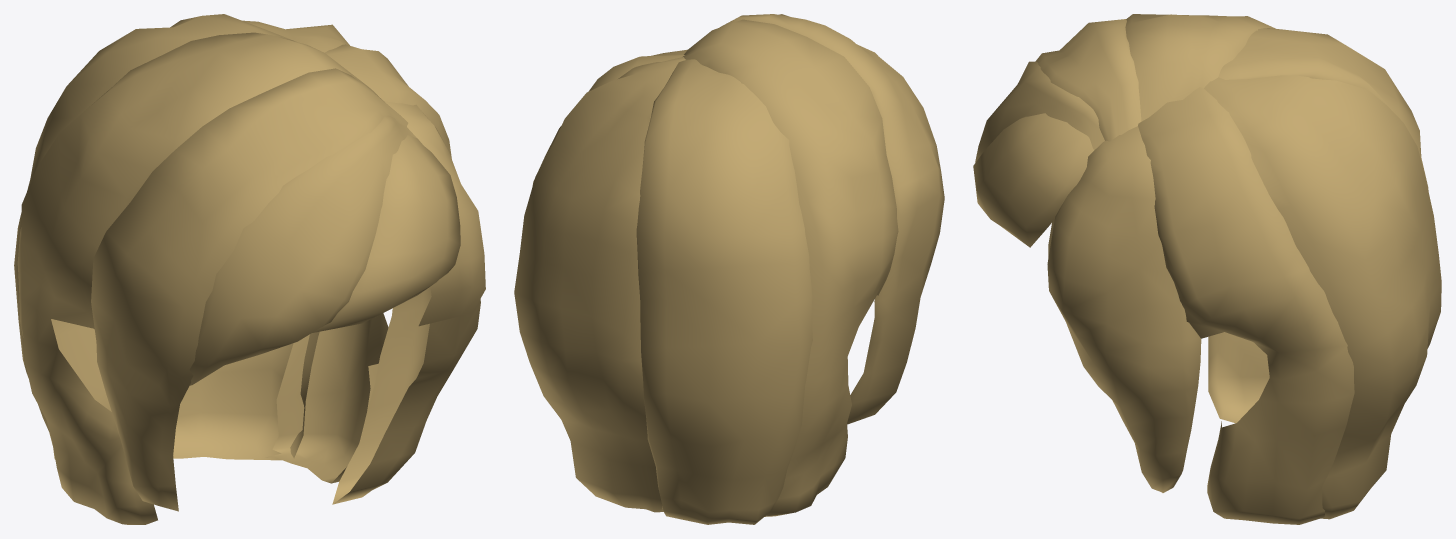
3 views of the same model, side by side, from view 1: azimuth 30°, elevation 25°; view 2: azimuth 150°, elevation 25°; view 3: azimuth 270°, elevation 25° (orthographic). The views are drawn at different scales.
Parts seen in each view (by area): view 1: Hair; view 2: Hair; view 3: Hair.
Boxes of the visible parts, <box> form: Hair: <box>14,14,485,524</box>; Hair: <box>514,14,944,524</box>; Hair: <box>973,14,1441,524</box>.
Bounding box in the file's own units: 14.46 × 17.91 × 16.78.
